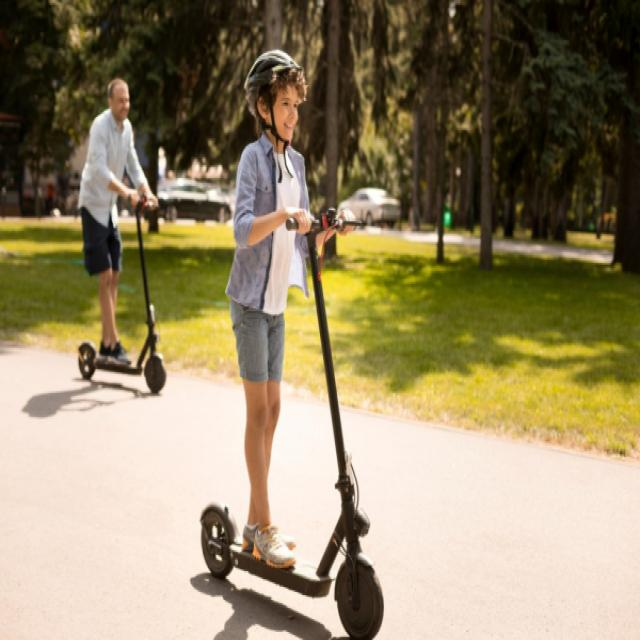bare_head: (104, 70, 148, 128)
human: (72, 71, 150, 354)
kickboard: (63, 347, 209, 440)
